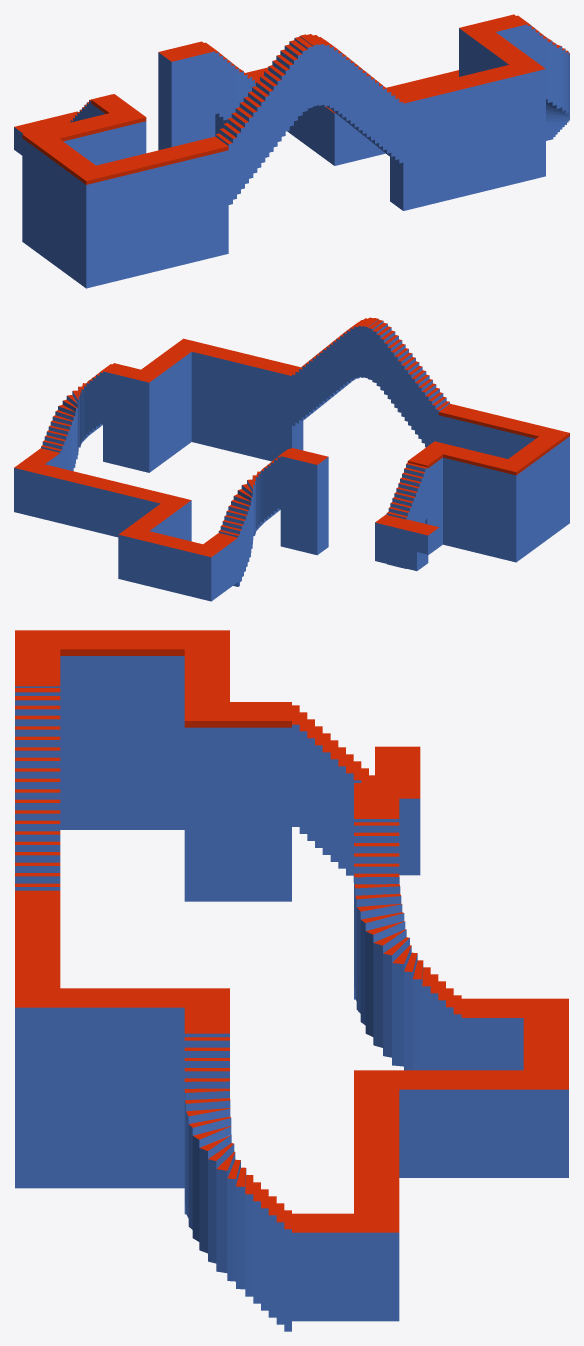
File: labyrinth.fbx
3 views of the same model, one above another, from view 1: azimuth 30°, elevation 25°; view 2: azimuth 150°, elevation 25°; view 3: azimuth 270°, elevation 25° (orthographic). The views are drawn at different scales.
Parts seen in each view (by area): view 1: geo1.001; view 2: geo1.001; view 3: geo1.001.
Part boxes in pixels (x1,y1,x2,y2): geo1.001: (14,14,569,288); geo1.001: (14,317,569,601); geo1.001: (15,630,568,1331).
Size of the model in its own units: 470 by 189 by 245.
